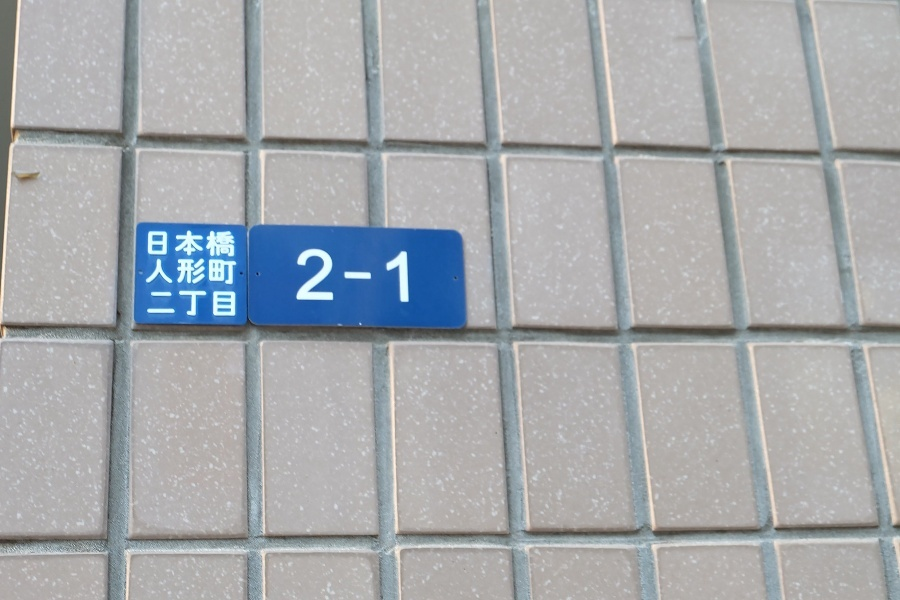text: (305, 249, 320, 303), (321, 249, 336, 303), (337, 249, 352, 303), (353, 249, 368, 303), (369, 249, 384, 303), (385, 249, 400, 303), (401, 249, 409, 303), (161, 258, 176, 285), (177, 258, 192, 285), (193, 258, 208, 285), (209, 258, 224, 285), (161, 231, 176, 257), (177, 231, 192, 257), (193, 231, 208, 257), (209, 231, 224, 257), (161, 291, 176, 317), (177, 291, 192, 317), (193, 291, 208, 317), (209, 291, 224, 317), (147, 258, 160, 285), (225, 258, 237, 285), (298, 249, 304, 303), (148, 231, 160, 257), (225, 291, 236, 317), (225, 231, 235, 257), (151, 291, 160, 317)
